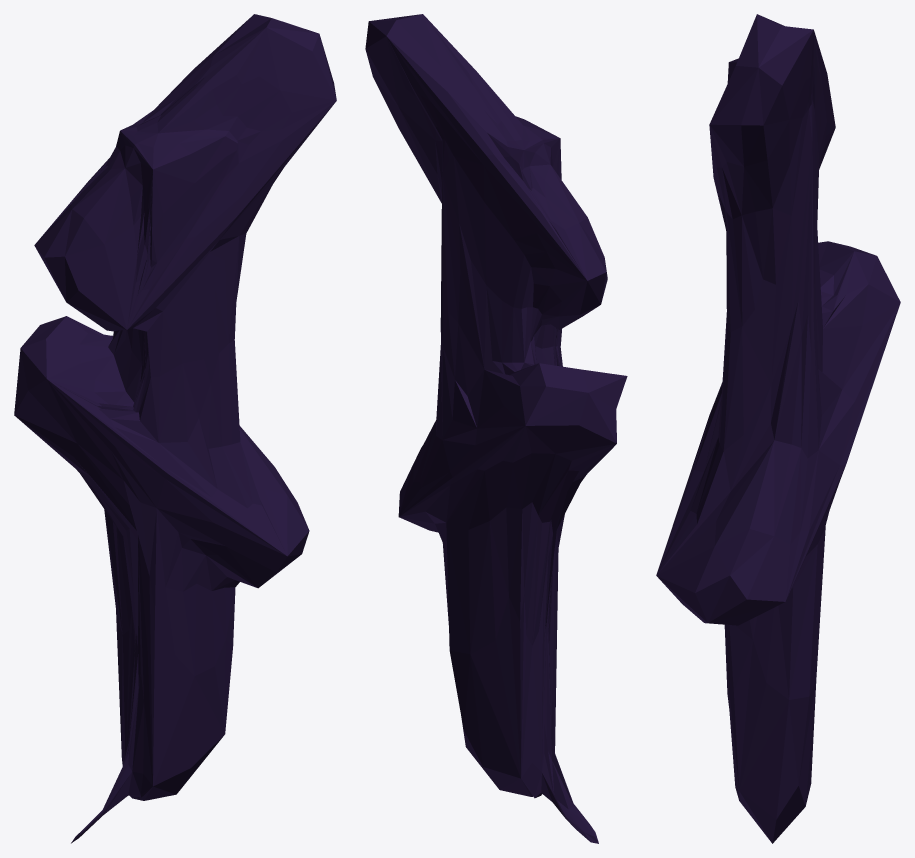
The picture shows the model from 3 angles, left to right: view 1: azimuth 30°, elevation 25°; view 2: azimuth 150°, elevation 25°; view 3: azimuth 270°, elevation 25°; orthographic projection. The views are drawn at different scales.
Visible parts, largest first — view 1: 670_Cube.2691; view 2: 670_Cube.2691; view 3: 670_Cube.2691.
Part boxes in pixels (left/top/right/bottom): 670_Cube.2691: left=14, top=14, right=336, bottom=843; 670_Cube.2691: left=365, top=14, right=627, bottom=843; 670_Cube.2691: left=656, top=14, right=900, bottom=843.
Size of the model in its own units: 5.36 by 14.03 by 3.42.
